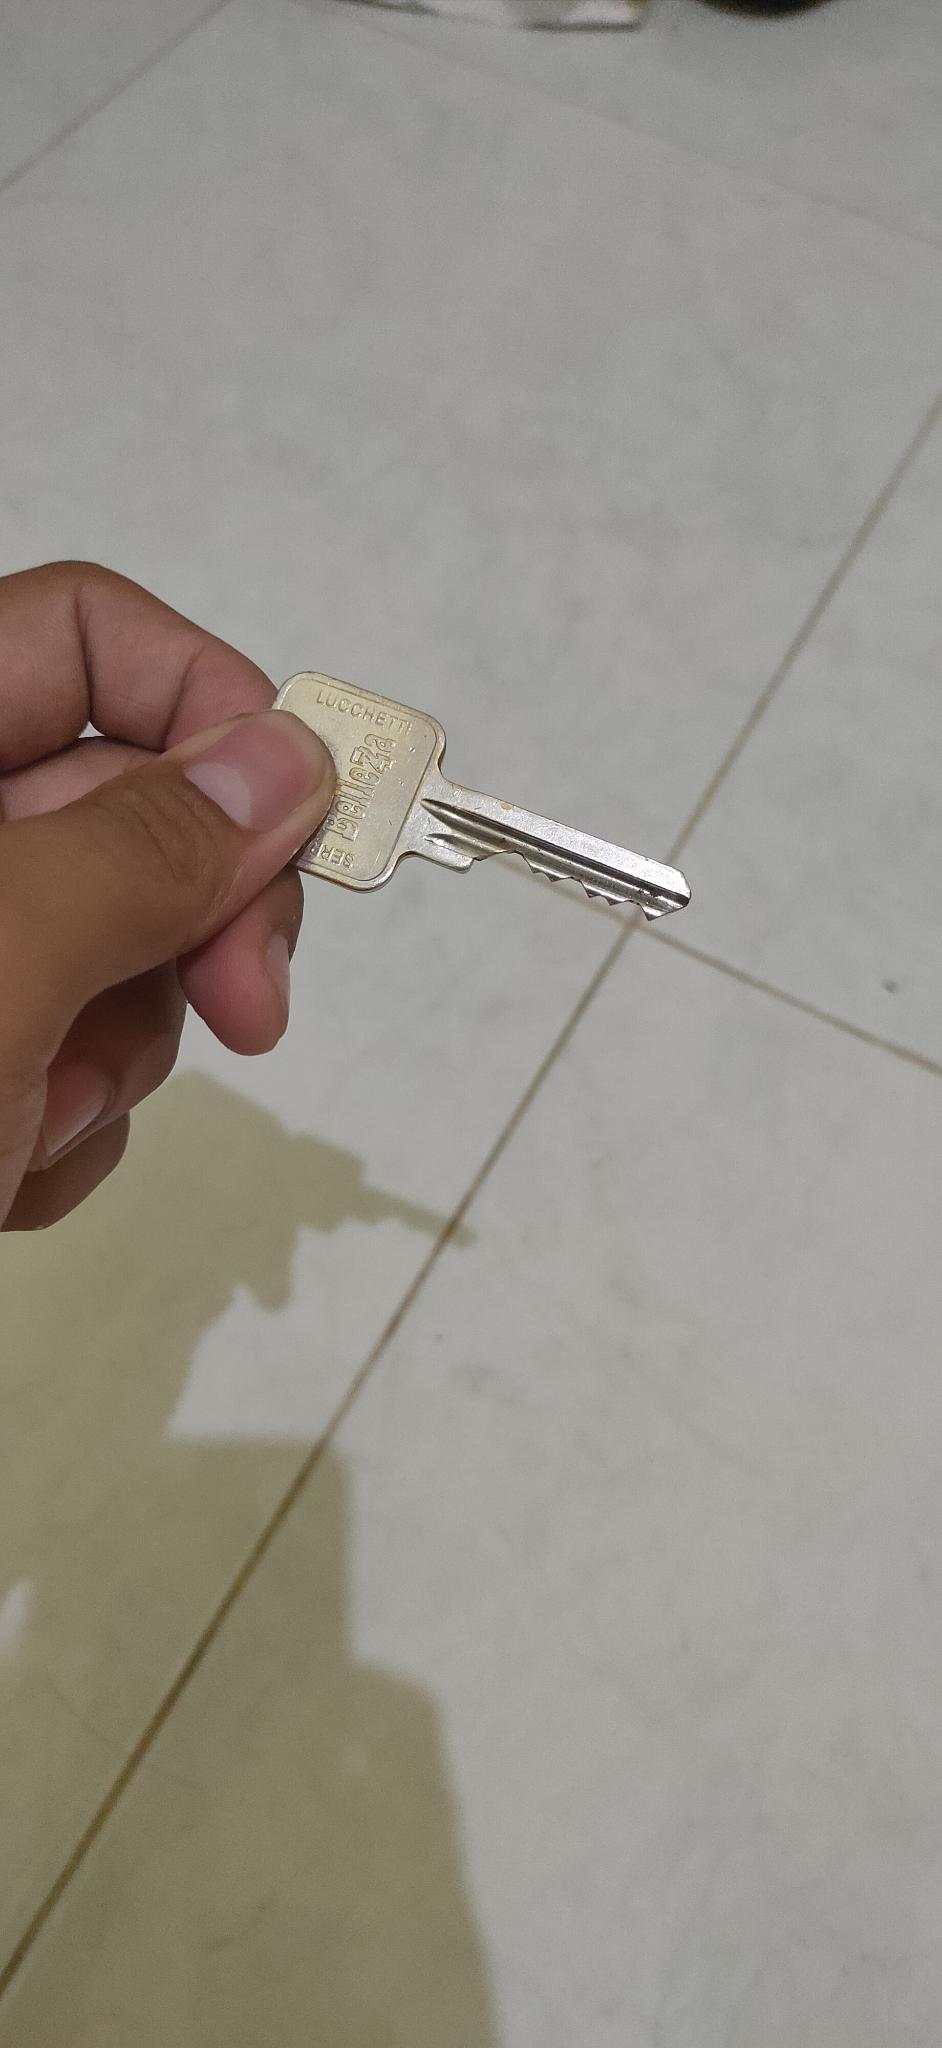keys: (222, 631, 696, 936)
